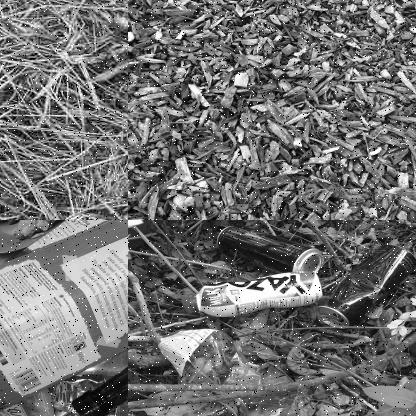glass: (73, 257, 127, 415)
metal: (318, 248, 415, 326), (214, 224, 325, 275)
plastic: (0, 220, 127, 415), (151, 325, 317, 415), (186, 272, 324, 314)
